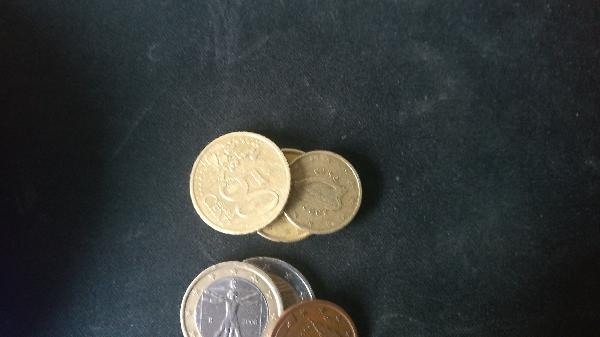Fifty Cent: (190, 133, 295, 242)
Five Cent: (267, 297, 360, 337)
One Euro: (180, 262, 287, 337)
Ten Cent: (284, 152, 363, 235)
